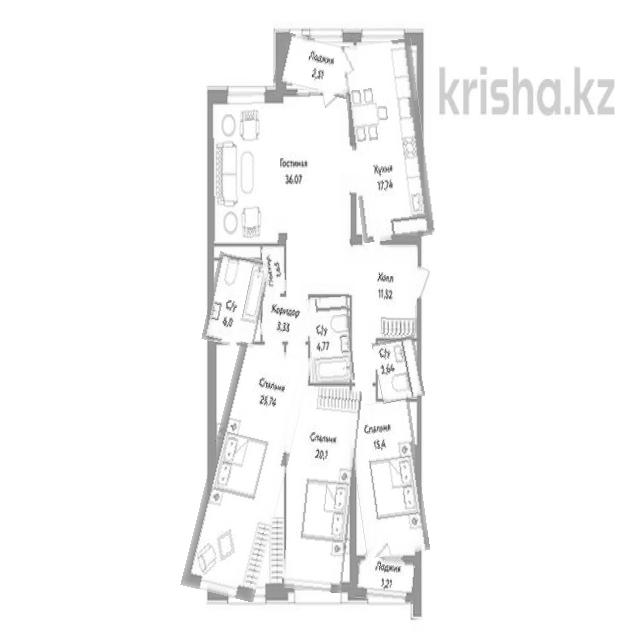balcony: (276, 36, 356, 96), (356, 558, 420, 602)
bathroom: (206, 254, 267, 348), (308, 297, 353, 382), (374, 337, 423, 402)
hallway: (355, 244, 418, 334), (288, 243, 353, 296), (262, 297, 308, 339)
kitchen: (346, 40, 429, 242)
living_room: (195, 344, 298, 599), (210, 92, 352, 240), (288, 387, 358, 592), (351, 400, 425, 557)
other: (262, 247, 286, 292)
